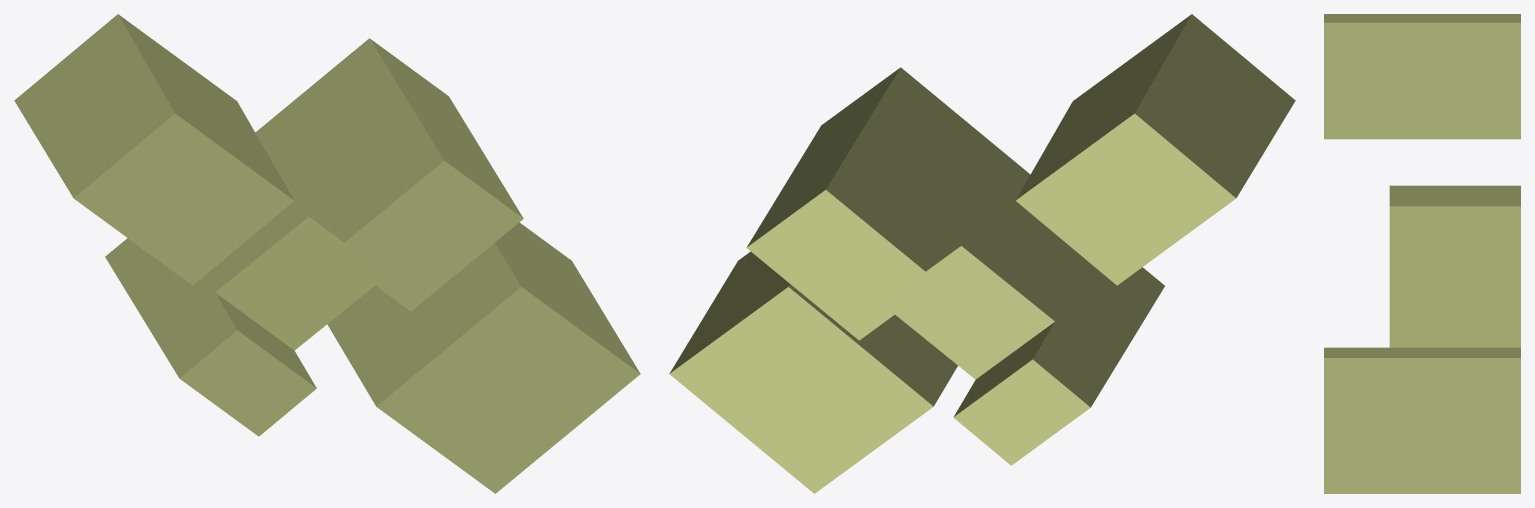
3 renders of one model, left to right at view 1: azimuth 30°, elevation 25°; view 2: azimuth 150°, elevation 25°; view 3: azimuth 270°, elevation 25°, orthographic. The views are drawn at different scales.
Visible parts, largest first — view 1: 0_1_2_0_3_3_0_2_2_3; view 2: 0_1_2_0_3_3_0_2_2_3; view 3: 0_1_2_0_3_3_0_2_2_3.
Boxes of the visible parts, bbox=[...] form: 0_1_2_0_3_3_0_2_2_3: bbox=[14, 14, 640, 493]; 0_1_2_0_3_3_0_2_2_3: bbox=[669, 14, 1295, 493]; 0_1_2_0_3_3_0_2_2_3: bbox=[1324, 14, 1520, 493].
Size of the model in its own units: 22.11 by 18.98 by 9.
